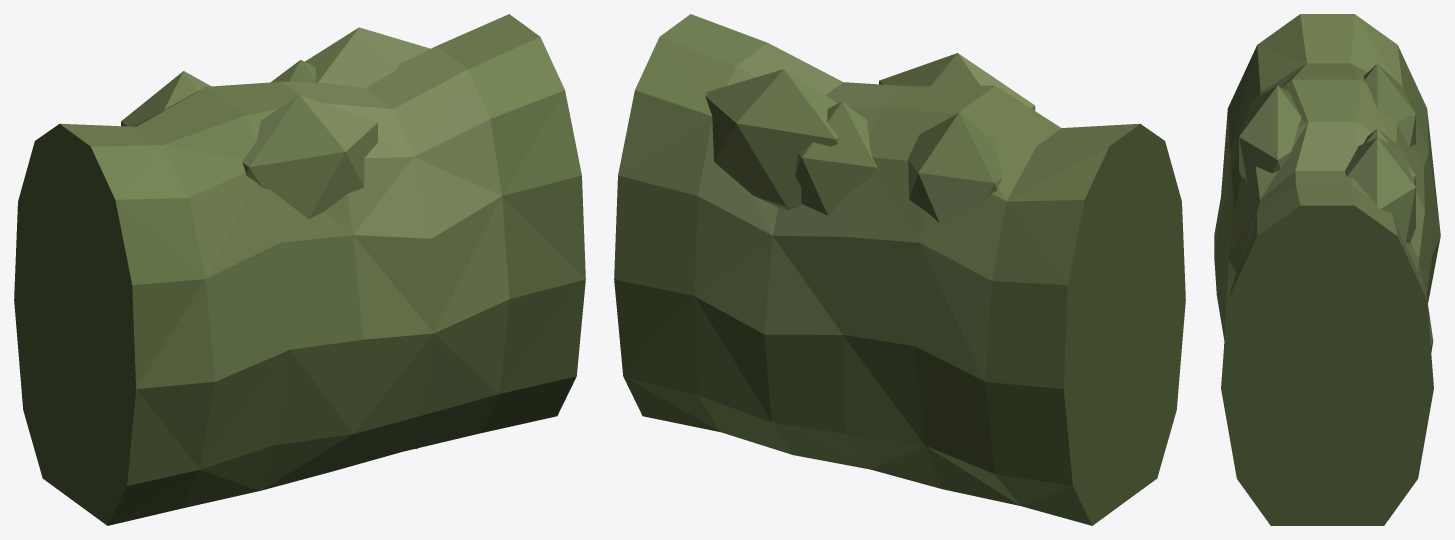
Rendered from lwf_hedge_straight_2m_v1.glb.
3 views of the same model, side by side, from view 1: azimuth 30°, elevation 25°; view 2: azimuth 150°, elevation 25°; view 3: azimuth 270°, elevation 25° (orthographic). The views are drawn at different scales.
Visible parts, largest first — view 1: lwf_hedge_straight_2m_v1; view 2: lwf_hedge_straight_2m_v1; view 3: lwf_hedge_straight_2m_v1.
Boxes of the visible parts, left/top/right/bottom form: lwf_hedge_straight_2m_v1: left=14, top=14, right=585, bottom=525; lwf_hedge_straight_2m_v1: left=614, top=14, right=1185, bottom=525; lwf_hedge_straight_2m_v1: left=1214, top=14, right=1440, bottom=525.
Bounding box in the file's own units: 2 × 1.73 × 1.
1 material, 1 textured.
